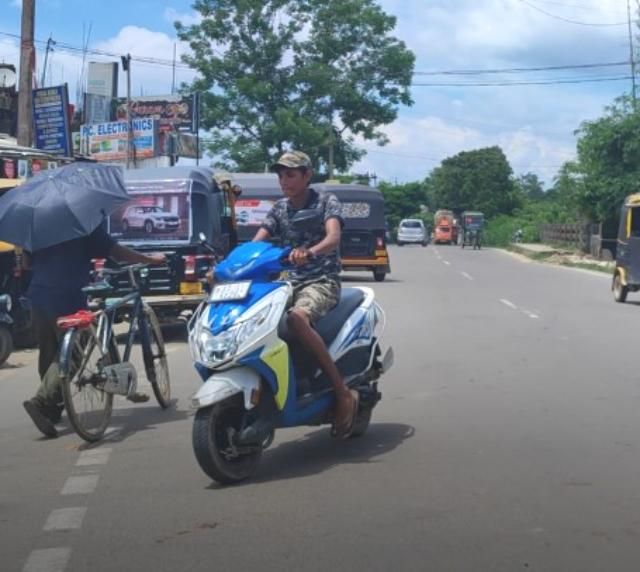licensePlate: (209, 283, 254, 304)
motorcycle: (183, 148, 392, 493)
withoutHelmet: (270, 154, 316, 202)
